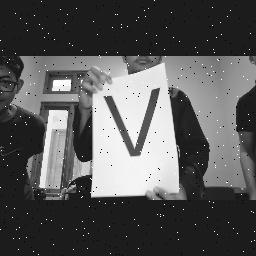v: (97, 84, 173, 164)
